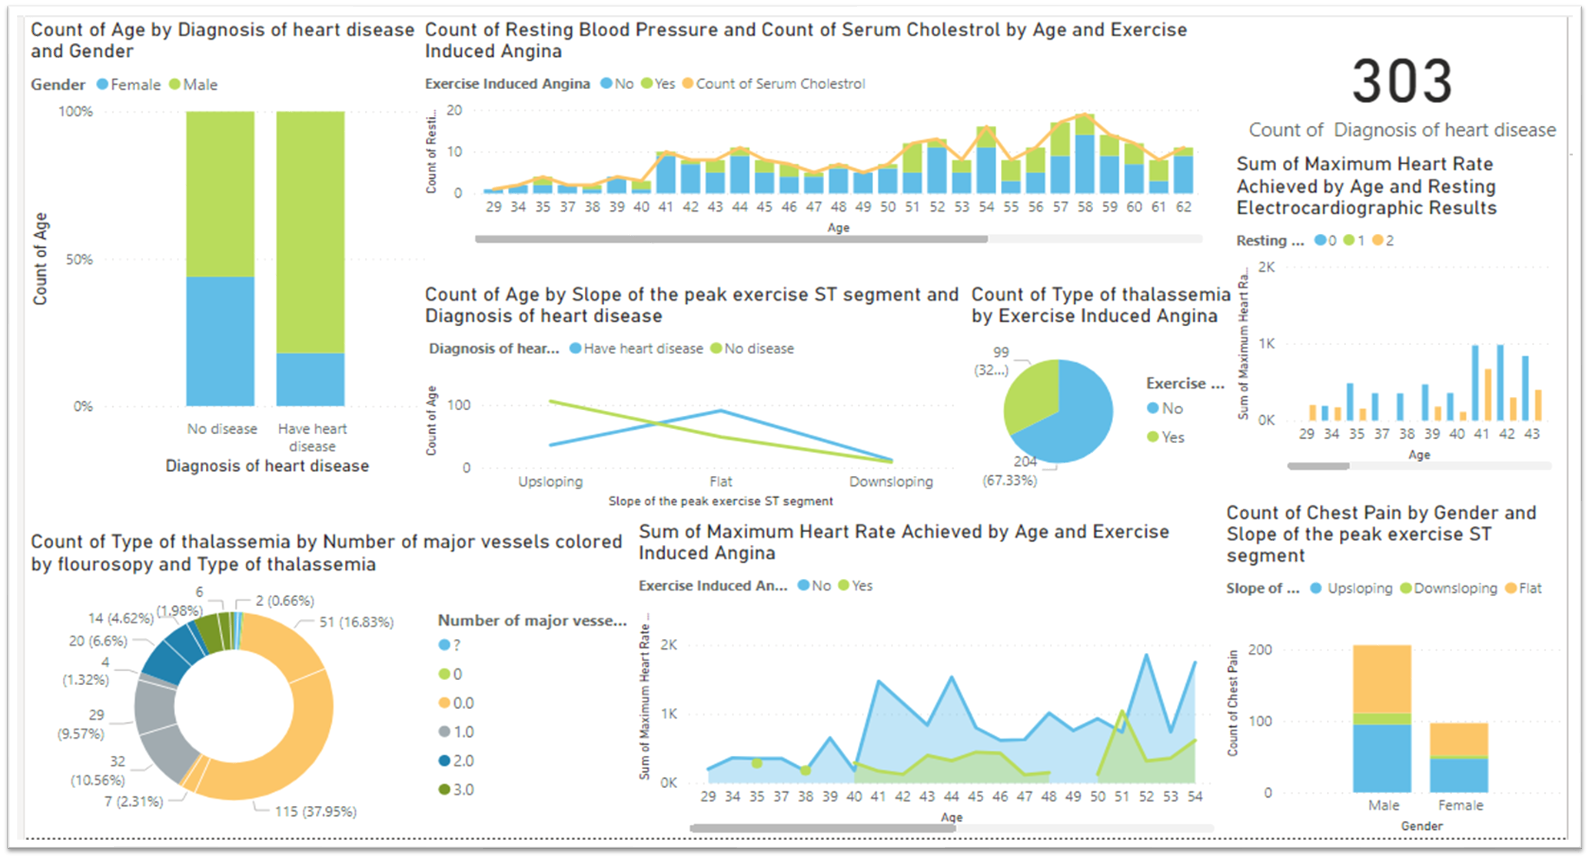

Layout of this report page (visuals, bound fields, positions):
{"tool":"powerbi","page":{"name":"Page 1","canvas":[1280,720],"ordinal":0},"visuals":[{"type":"hundredPercentStackedColumnChart","fields":{"Series":["processed_cleveland.Gender"],"Category":["processed_cleveland. Diagnosis of heart disease"],"Y":["CountNonNull(processed_cleveland.Age)"]},"box":[0,0,340.6,313.3],"z":0},{"type":"pieChart","fields":{"Category":["processed_cleveland.Exercise Induced Angina"],"Y":["CountNonNull(processed_cleveland.Type of thalassemia)"]},"box":[708.5,218.4,251.5,188.3],"z":1000},{"type":"lineStackedColumnComboChart","fields":{"Category":["processed_cleveland.Gender"],"Series":["processed_cleveland.Slope of the peak exercise ST segment"],"Y":["CountNonNull(processed_cleveland.Chest Pain)"]},"box":[993.1,435.4,287.4,284.6],"z":2000},{"type":"lineClusteredColumnComboChart","fields":{"Category":["processed_cleveland.Number of major vessels colored by flourosopy"],"Series":["processed_cleveland.Resting Electrocardiographic Results"],"Y":["Sum(processed_cleveland.Maximum Heart Rate Achieved)"]},"box":[978.7,145.1,296,278.8],"z":3000},{"type":"card","fields":{"Values":["CountNonNull(processed_cleveland. Diagnosis of heart disease)"]},"box":[993.1,0,212.7,145.1],"z":4000},{"type":"areaChart","fields":{"Category":["processed_cleveland.Age"],"Series":["processed_cleveland.Exercise Induced Angina"],"Y":["Sum(processed_cleveland.Maximum Heart Rate Achieved)"]},"box":[340.6,438.3,638.1,281.7],"z":5000},{"type":"donutChart","fields":{"Category":["processed_cleveland.Number of major vessels colored by flourosopy","processed_cleveland.Type of thalassemia"],"Series":["processed_cleveland.Type of thalassemia"],"Y":["CountNonNull(processed_cleveland.Number of major vessels colored by flourosopy)"]},"box":[0,334.9,327.7,385.1],"z":6000},{"type":"lineStackedColumnComboChart","fields":{"Category":["processed_cleveland.Age"],"Y":["CountNonNull(processed_cleveland.Resting Blood Pressure)"],"Y2":["CountNonNull(processed_cleveland.Serum Cholestrol)"],"Series":["processed_cleveland.Exercise Induced Angina"]},"box":[327.7,0,651,204.1],"z":7000},{"type":"lineChart","fields":{"Y":["CountNonNull(processed_cleveland.Age)"],"Series":["processed_cleveland. Diagnosis of heart disease"],"Category":["processed_cleveland.Slope of the peak exercise ST segment"]},"box":[327.7,232.8,311.9,202.6],"z":8000}]}

Visuals, with their boxes on the page's 1280x720 design canvas (x1, y1, x2, y2). These are canvas units, not pixel positions in the 1590x859 screenshot, which may show the page scaled, cropped or inside an application window:
hundredPercentStackedColumnChart - processed_cleveland.Gender x processed_cleveland. Diagnosis of heart disease: box(0, 0, 341, 313)
pieChart - processed_cleveland.Exercise Induced Angina x CountNonNull(processed_cleveland.Type of thalassemia): box(708, 218, 960, 407)
lineStackedColumnComboChart - processed_cleveland.Gender x processed_cleveland.Slope of the peak exercise ST segment: box(993, 435, 1280, 720)
lineClusteredColumnComboChart - processed_cleveland.Number of major vessels colored by flourosopy x processed_cleveland.Resting Electrocardiographic Results: box(979, 145, 1275, 424)
card - CountNonNull(processed_cleveland. Diagnosis of heart disease): box(993, 0, 1206, 145)
areaChart - processed_cleveland.Age x processed_cleveland.Exercise Induced Angina: box(341, 438, 979, 720)
donutChart - processed_cleveland.Number of major vessels colored by flourosopy x processed_cleveland.Type of thalassemia: box(0, 335, 328, 720)
lineStackedColumnComboChart - processed_cleveland.Age x CountNonNull(processed_cleveland.Resting Blood Pressure): box(328, 0, 979, 204)
lineChart - CountNonNull(processed_cleveland.Age) x processed_cleveland. Diagnosis of heart disease: box(328, 233, 640, 435)
